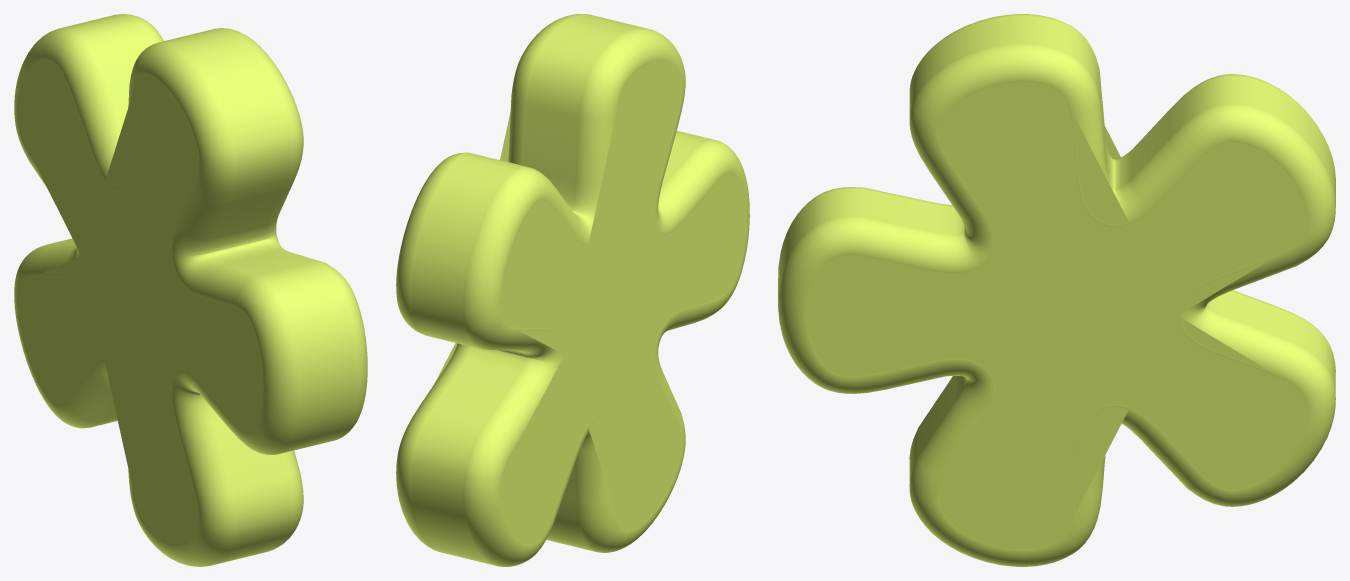
The model's file is yellow-flower.fbx.
3 views of the same model, side by side, from view 1: azimuth 30°, elevation 25°; view 2: azimuth 150°, elevation 25°; view 3: azimuth 270°, elevation 25° (orthographic). The views are drawn at different scales.
Parts seen in each view (by area): view 1: Extrude; view 2: Extrude; view 3: Extrude.
Boxes of the visible parts, bbox=[...] form: Extrude: bbox=[14, 14, 367, 566]; Extrude: bbox=[396, 14, 749, 566]; Extrude: bbox=[778, 14, 1335, 566].
Size of the model in its own units: 17.61 by 84.56 by 82.1.
